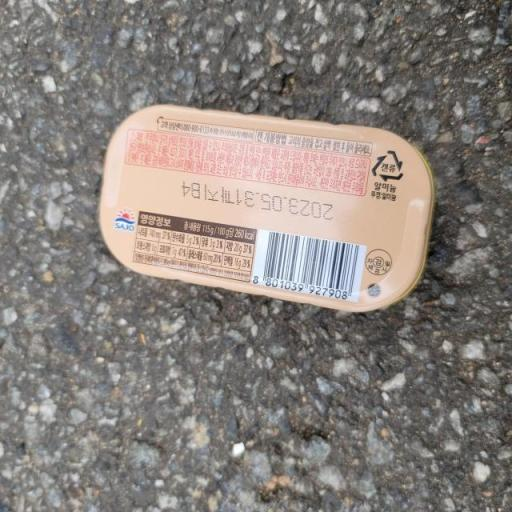metal: (81, 72, 486, 384)
